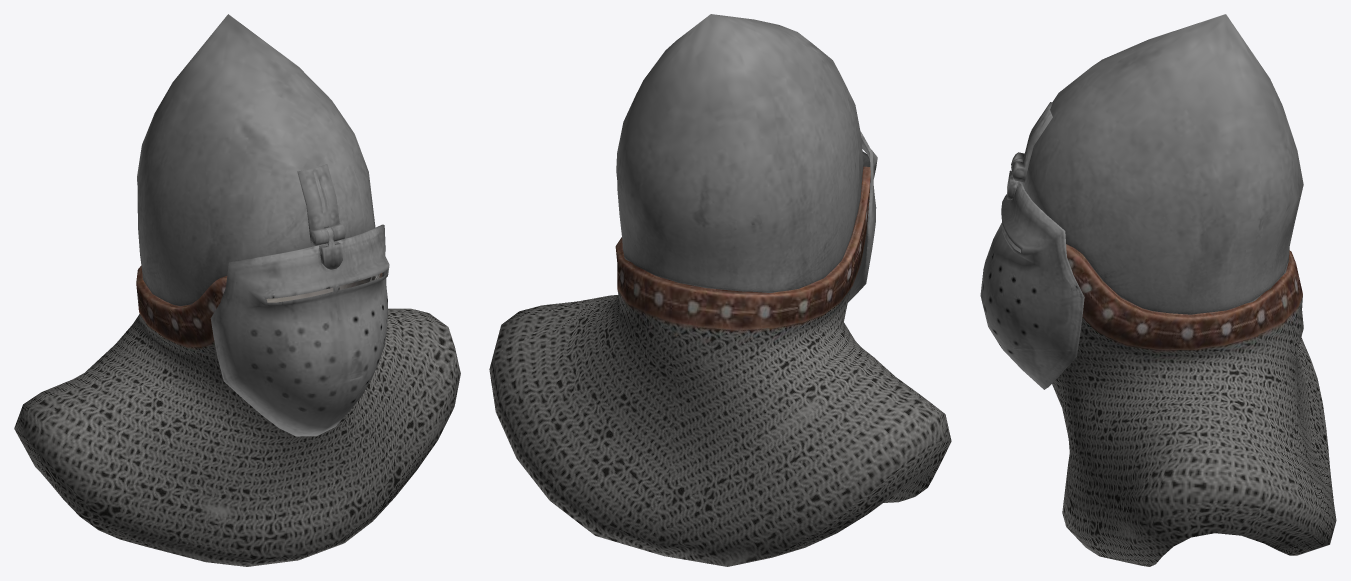
The model's file is bascinet.glb.
The picture shows the model from 3 angles, left to right: view 1: azimuth 30°, elevation 25°; view 2: azimuth 150°, elevation 25°; view 3: azimuth 270°, elevation 25°; orthographic projection. The views are drawn at different scales.
Parts seen in each view (by area): view 1: PIECE_bascinet; view 2: PIECE_bascinet; view 3: PIECE_bascinet.
Part boxes in pixels (box(x1,y1,x2,y2)): PIECE_bascinet: box(14, 14, 460, 566); PIECE_bascinet: box(489, 14, 951, 566); PIECE_bascinet: box(980, 14, 1336, 566).
Size of the model in its own units: 1 by 1.13 by 0.7126.
1 material, 1 textured.
